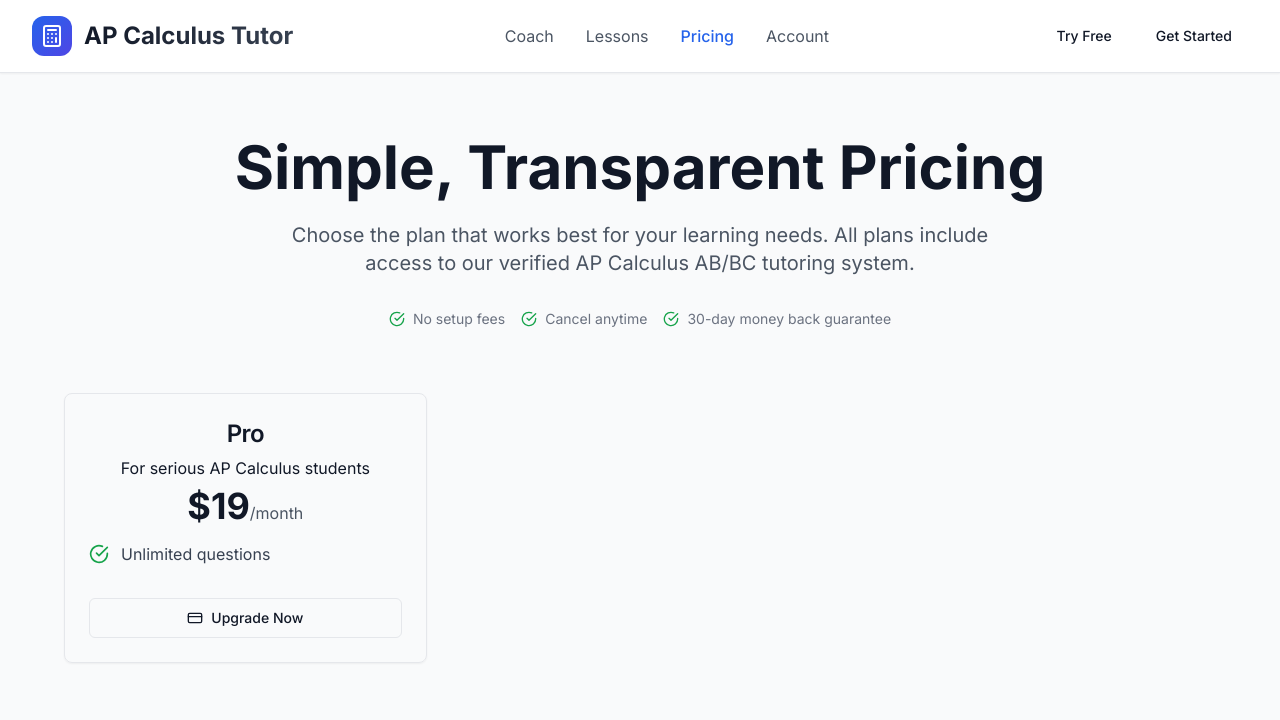
Scenario: PricingPage › should show loading state during checkout
Check: the heading "Pro" is shown, box [227,419,264,448]
What coordinates should you click on to do the following:
click the button "Upgrade Now"
I would click on:
 (245, 618)
Its box is [89,598,402,638].
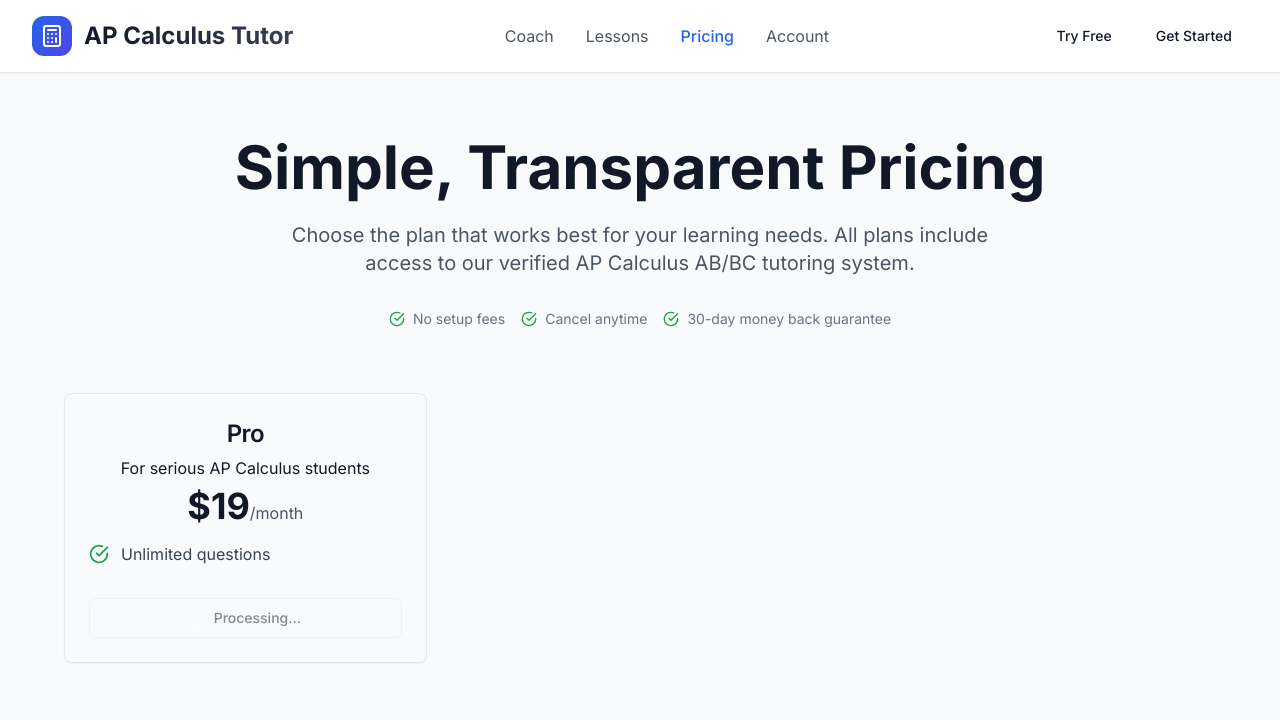
Check: the button "Processing..." is disabled, box [89,598,402,638]
